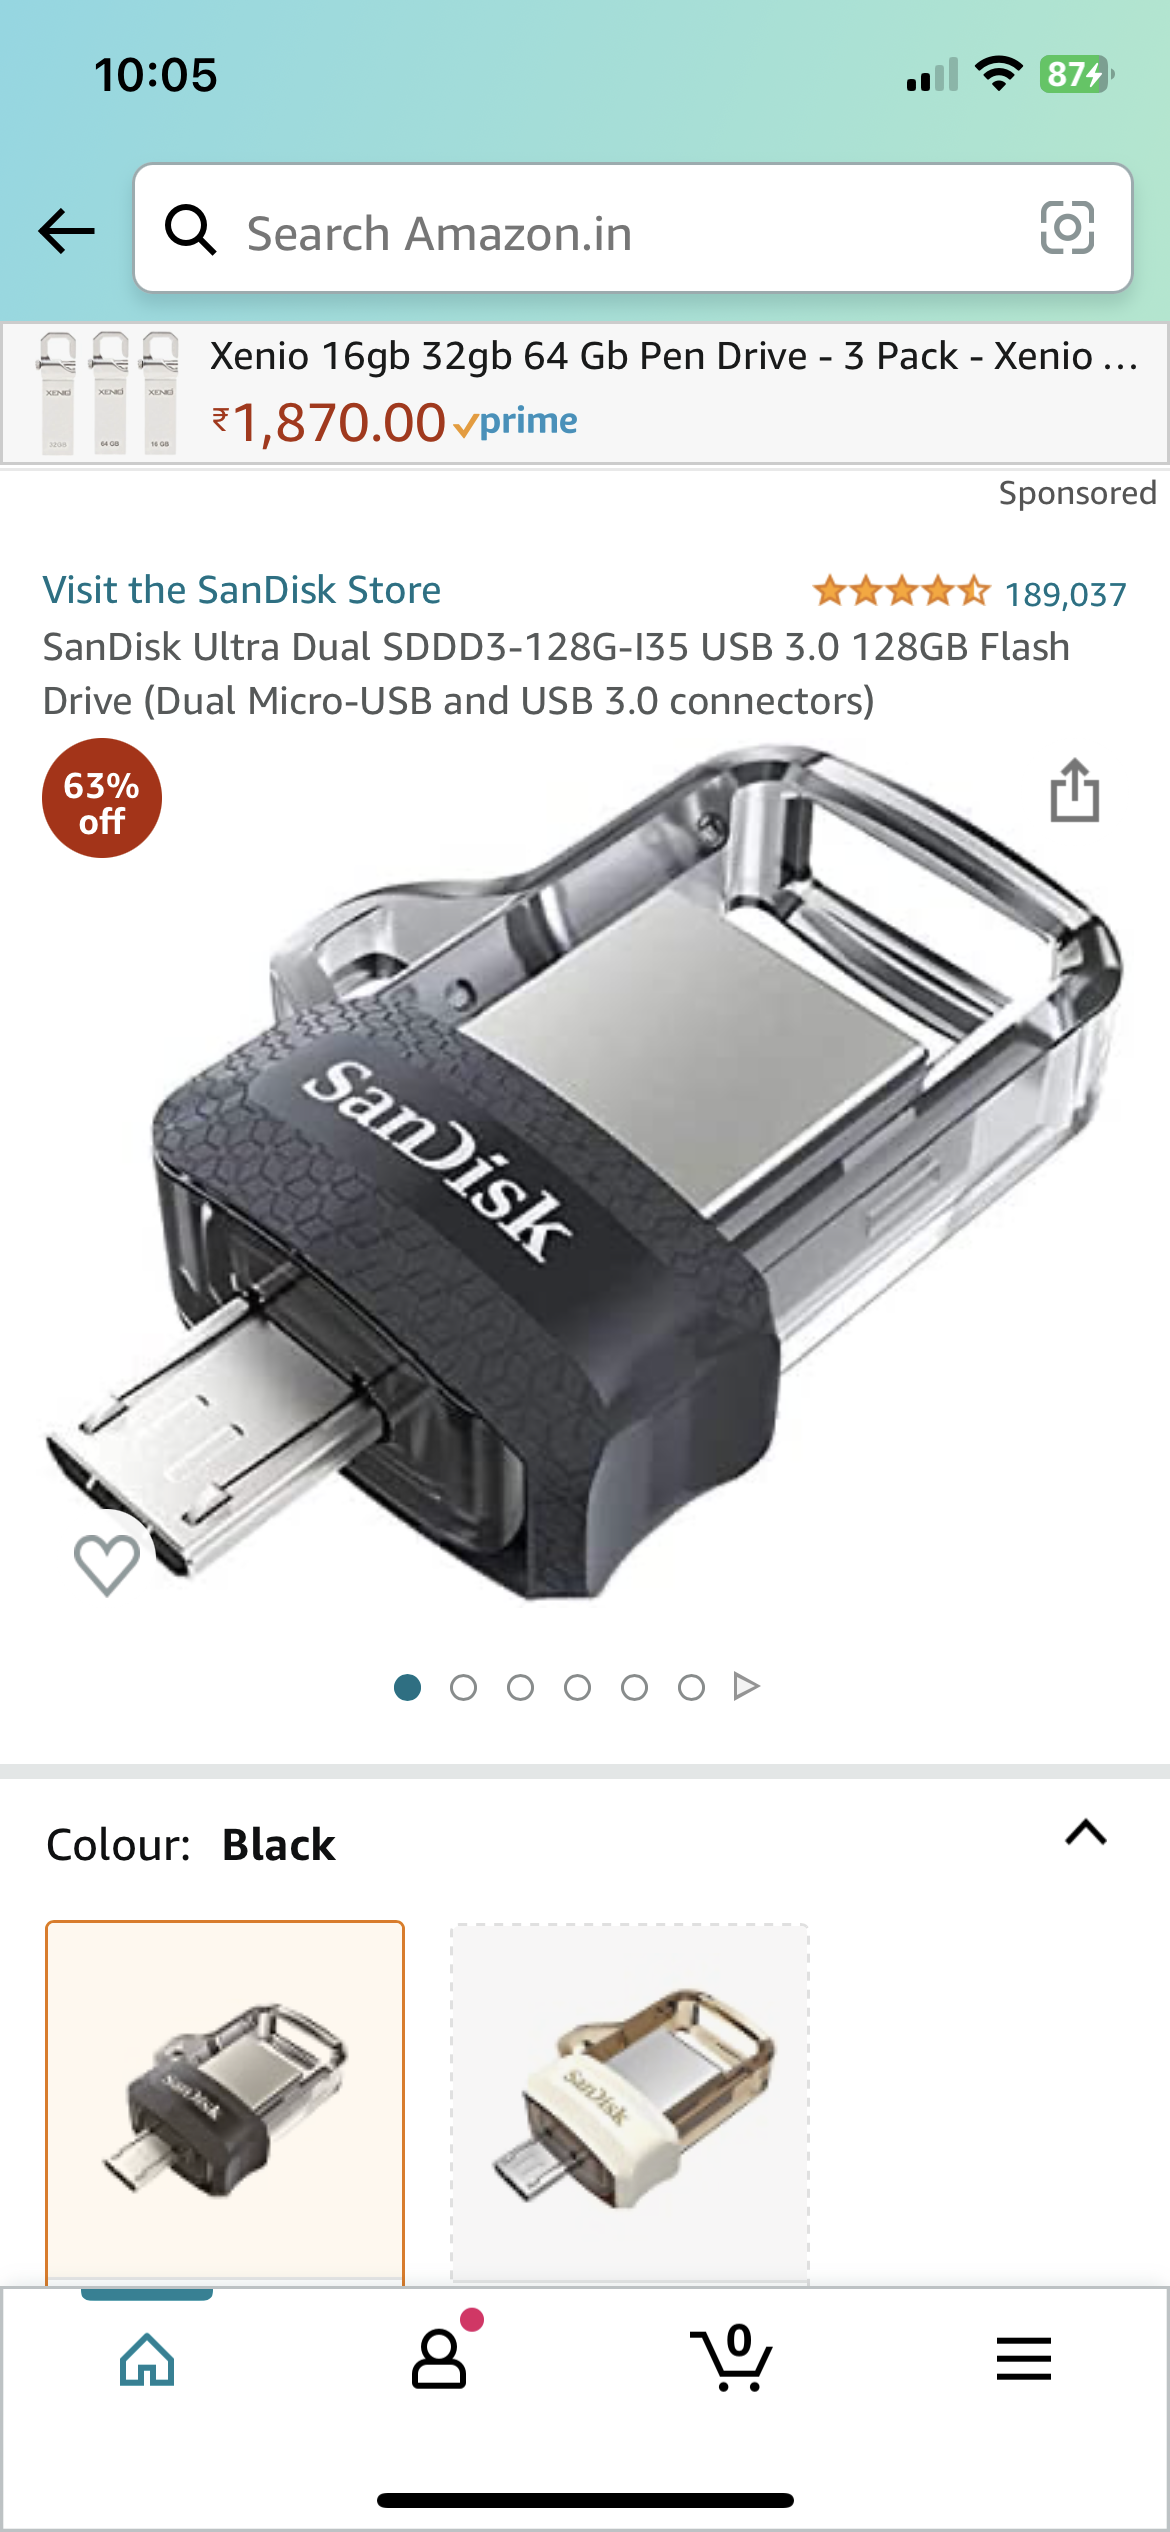PenDrive: (36, 740, 1130, 1607)
